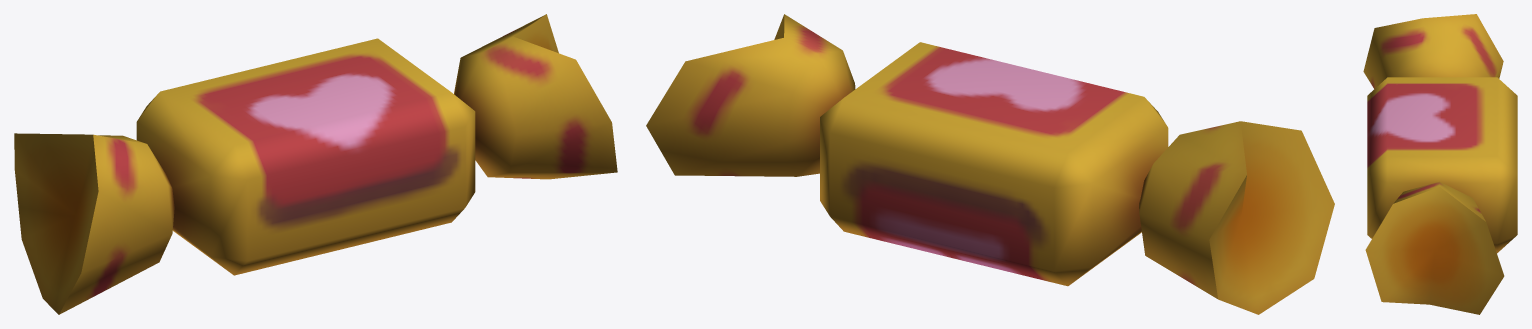
The model's file is candy01.fbx.
The picture shows the model from 3 angles, left to right: view 1: azimuth 30°, elevation 25°; view 2: azimuth 150°, elevation 25°; view 3: azimuth 270°, elevation 25°; orthographic projection. The views are drawn at different scales.
Parts seen in each view (by area): view 1: candy01; view 2: candy01; view 3: candy01.
Part boxes in pixels (left/top/right/bottom): candy01: left=14, top=14, right=617, bottom=314; candy01: left=646, top=14, right=1334, bottom=314; candy01: left=1363, top=14, right=1517, bottom=314.
Bounding box in the file's own units: 40.77 × 11.37 × 12.71.
